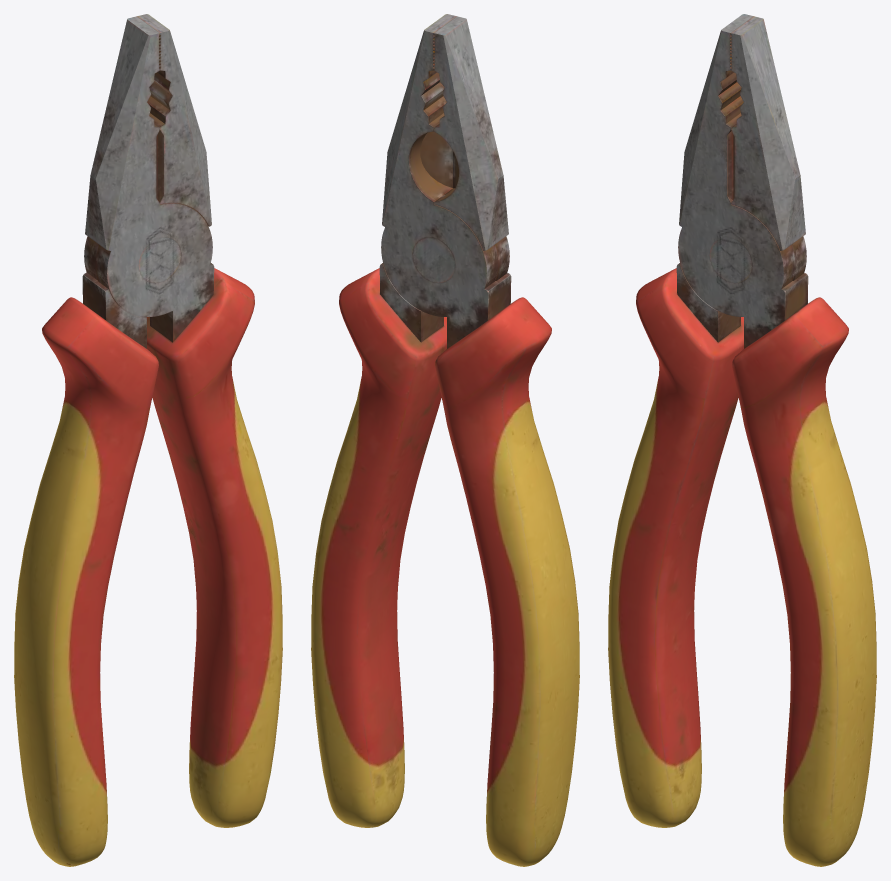
The model's file is pliers.glb.
3 views of the same model, side by side, from view 1: azimuth 30°, elevation 25°; view 2: azimuth 150°, elevation 25°; view 3: azimuth 330°, elevation 25° (orthographic).
Parts seen in each view (by area): view 1: pliers_b, pliers_a, pliers_pin; view 2: pliers_a, pliers_b, pliers_pin; view 3: pliers_b, pliers_a, pliers_pin.
Boxes of the visible parts, box(x1,y1,x2,y2) form: pliers_b: box(85, 16, 282, 827); pliers_a: box(14, 14, 211, 866); pliers_pin: box(138, 237, 181, 282); pliers_a: box(381, 14, 579, 866); pliers_b: box(311, 16, 509, 827); pliers_pin: box(412, 237, 455, 282); pliers_b: box(678, 14, 876, 866); pliers_a: box(608, 16, 806, 827); pliers_pin: box(709, 237, 752, 282).
Size of the model in its own units: 0.0553 by 0.1798 by 0.018.
Materials: 1 (1 with a texture image).
